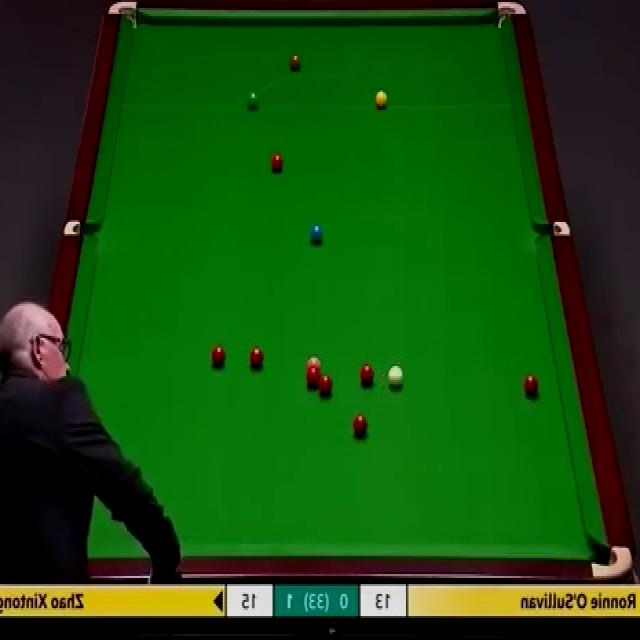blue-ball: (310, 224, 323, 243)
brown-ball: (290, 53, 302, 71)
green-ball: (247, 89, 260, 110)
pink-ball: (305, 354, 322, 372)
red-ball: (351, 414, 369, 438), (524, 374, 540, 399), (210, 345, 226, 368), (250, 347, 266, 370), (359, 365, 375, 386), (318, 375, 332, 397), (271, 153, 284, 174), (306, 370, 322, 387)
white-ball: (386, 367, 404, 392)
yellow-ball: (376, 90, 388, 108)
